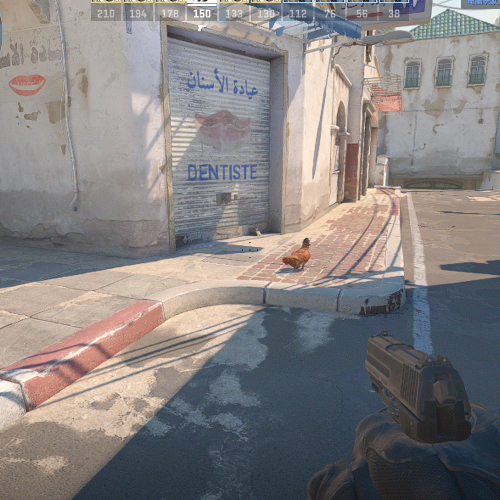chicken: (282, 238, 311, 272)
